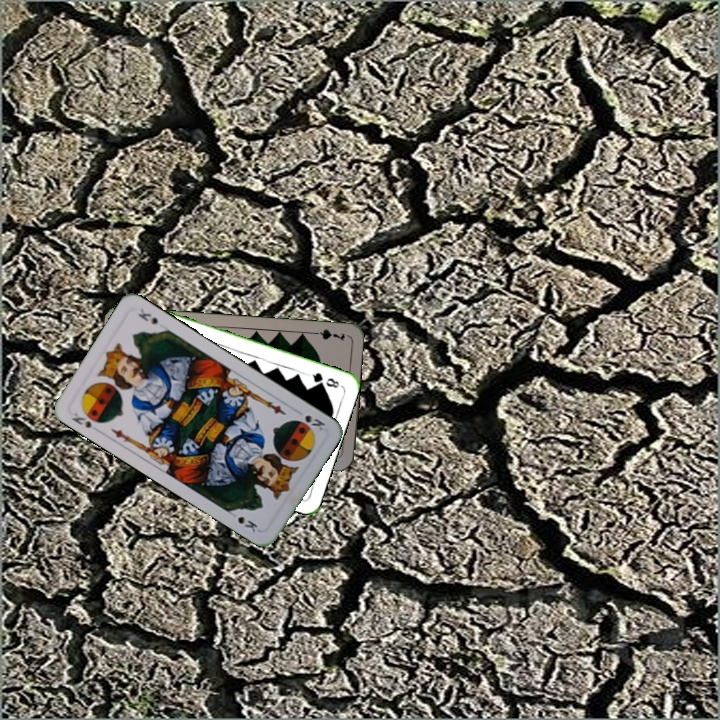G7: (307, 325, 348, 343)
G8: (304, 368, 342, 391)
SK: (291, 405, 328, 433), (68, 408, 95, 431)
